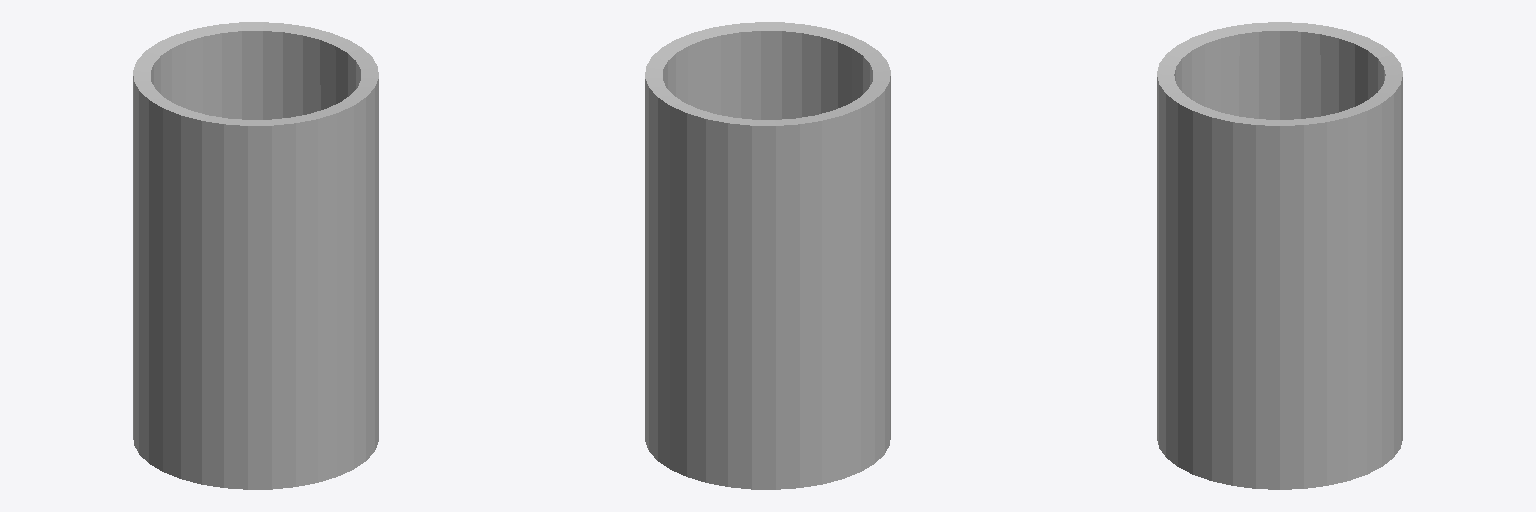
The model's file is glass.obj.
3 views of the same model, side by side, from view 1: azimuth 30°, elevation 25°; view 2: azimuth 150°, elevation 25°; view 3: azimuth 270°, elevation 25° (orthographic).
Visible parts, largest first — view 1: Cylinder; view 2: Cylinder; view 3: Cylinder.
Part boxes in pixels (x1,y1,x2,y2): Cylinder: (133,22,378,489); Cylinder: (645,22,890,489); Cylinder: (1157,22,1402,489).
Bounding box in the file's own units: 2 × 3.26 × 2.